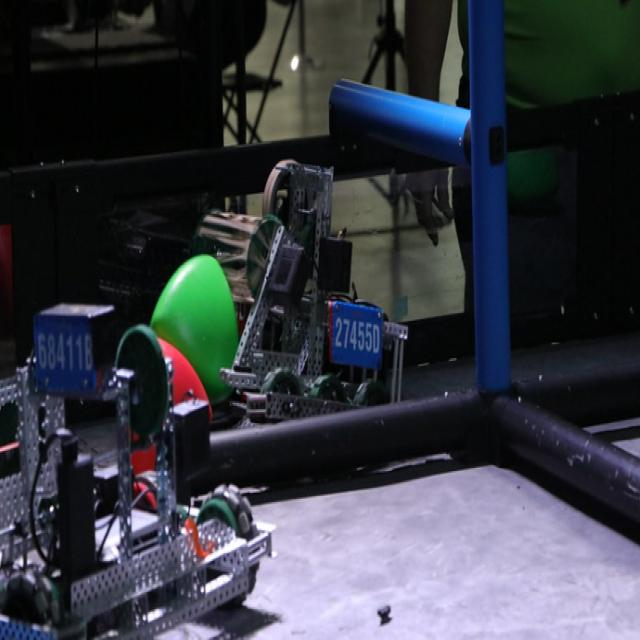License-Plates: (35, 317, 98, 396), (331, 298, 385, 368)
